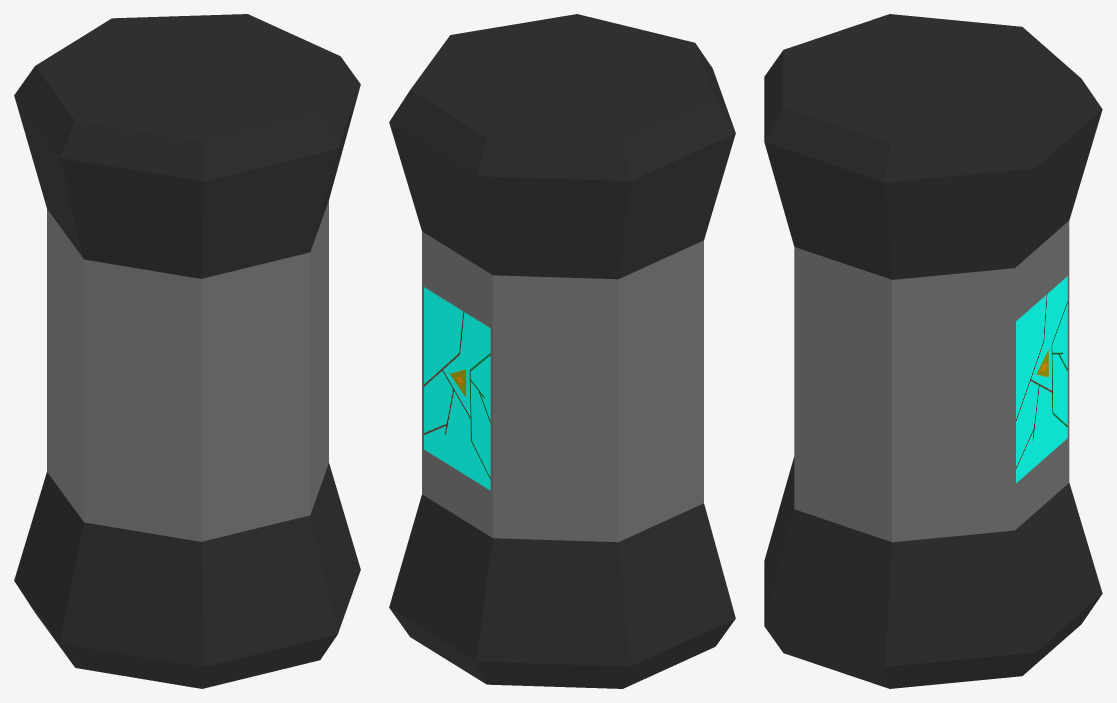
The picture shows the model from 3 angles, left to right: view 1: azimuth 30°, elevation 25°; view 2: azimuth 150°, elevation 25°; view 3: azimuth 270°, elevation 25°; orthographic projection.
Visible parts, largest first — view 1: Cylinder; view 2: Cylinder; view 3: Cylinder.
Boxes of the visible parts, x1,y1,x2,y2 form: Cylinder: (14, 14, 360, 688); Cylinder: (389, 14, 735, 688); Cylinder: (764, 14, 1102, 688).
Size of the model in its own units: 0.2934 by 0.5093 by 0.2861.
1 material, 1 textured.
